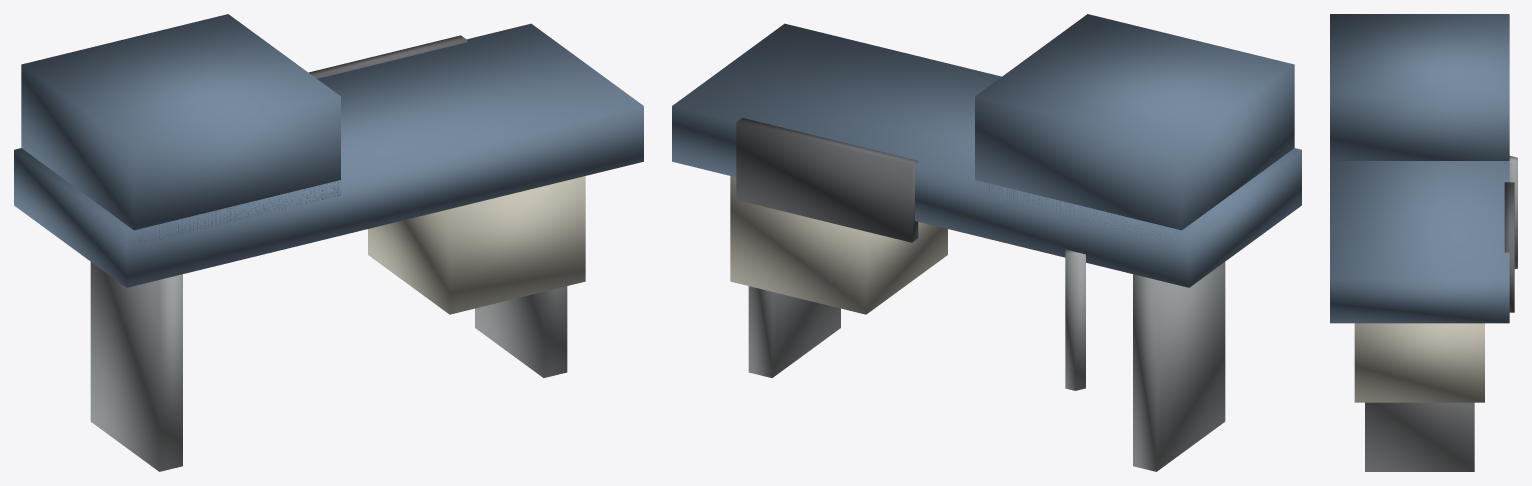
File: exam_table__service.glb
The picture shows the model from 3 angles, left to right: view 1: azimuth 30°, elevation 25°; view 2: azimuth 150°, elevation 25°; view 3: azimuth 270°, elevation 25°; orthographic projection. The views are drawn at different scales.
Parts seen in each view (by area): view 1: world; view 2: world; view 3: world.
Boxes of the visible parts, x1,y1,x2,y2 form: world: (14,14,643,471); world: (672,14,1301,471); world: (1330,14,1517,471).
Bounding box in the file's own units: 1.75 × 1.14 × 0.6903.
